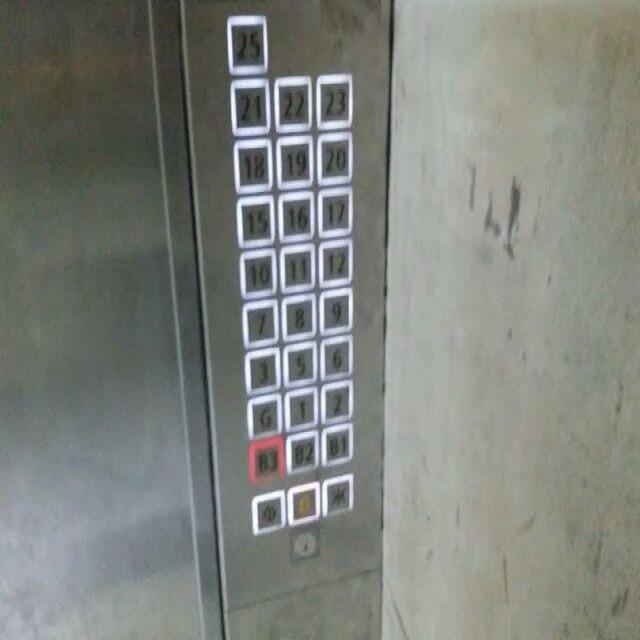1: (280, 382, 318, 434)
10: (236, 244, 277, 299)
11: (276, 239, 315, 293)
12: (315, 235, 353, 288)
15: (233, 191, 275, 248)
16: (274, 186, 314, 242)
17: (314, 182, 353, 238)
18: (230, 133, 273, 195)
19: (273, 131, 314, 189)
2: (317, 374, 354, 426)
20: (313, 128, 353, 185)
21: (227, 73, 270, 136)
22: (270, 71, 312, 133)
23: (312, 68, 354, 131)
25: (222, 8, 270, 76)
3: (241, 343, 281, 396)
5: (279, 336, 317, 388)
6: (317, 329, 353, 383)
7: (239, 295, 279, 349)
8: (278, 289, 316, 343)
9: (316, 283, 353, 336)
B1: (319, 416, 354, 467)
B2: (282, 424, 320, 475)
B3: (246, 431, 284, 481)
G: (243, 387, 282, 440)
alarm: (284, 477, 320, 527)
close: (319, 470, 353, 518)
open: (248, 484, 286, 536)
